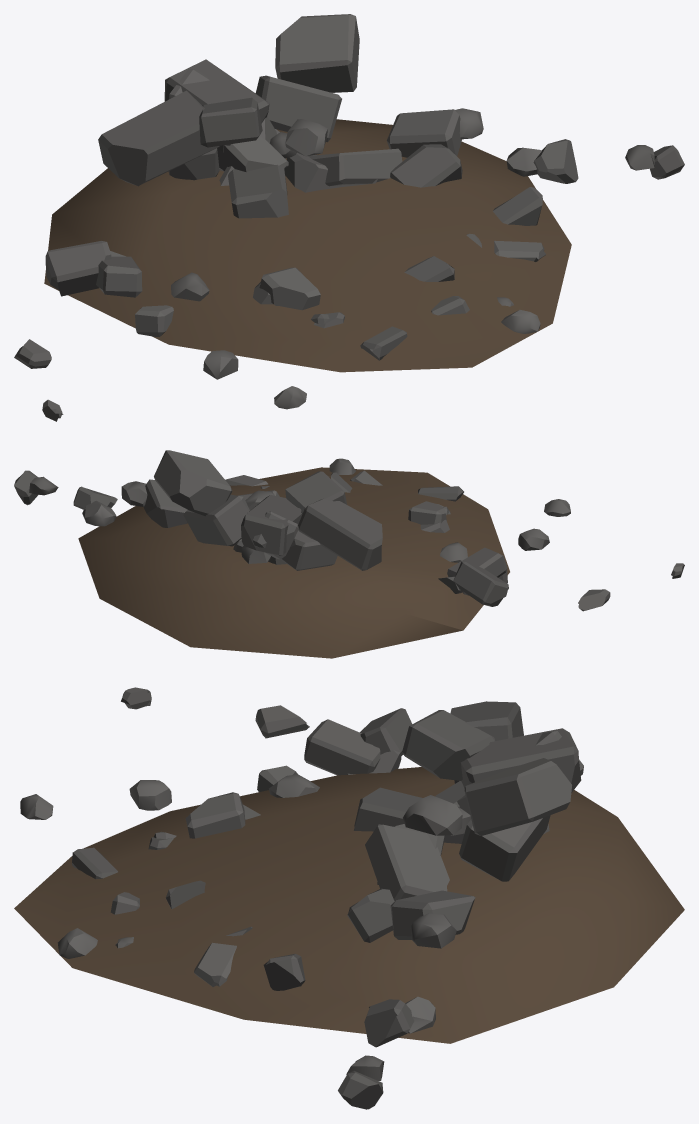
File: rubble_spill.glb
3 renders of one model, top to bottom at view 1: azimuth 30°, elevation 25°; view 2: azimuth 150°, elevation 25°; view 3: azimuth 270°, elevation 25°, orthographic. The views are drawn at different scales.
Parts seen in each view (by area): view 1: rubble_spill; view 2: rubble_spill; view 3: rubble_spill.
Part boxes in pixels (left/top/right/bottom): rubble_spill: left=14, top=14, right=684, bottom=421; rubble_spill: left=14, top=450, right=684, bottom=658; rubble_spill: left=14, top=687, right=684, bottom=1109.
Size of what is drawn, in the model's own units: 5.46 by 1.25 by 3.82.
